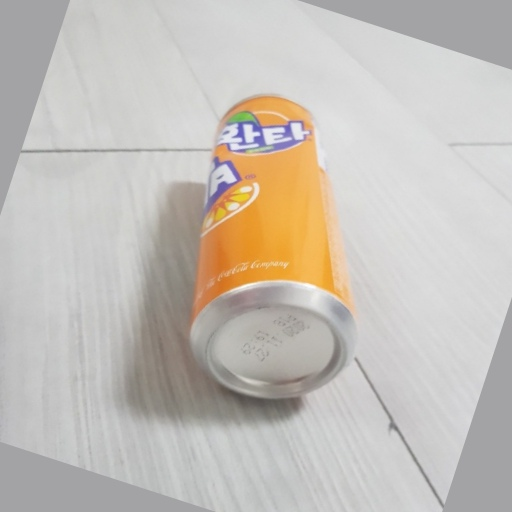Metal_0: (181, 92, 360, 398)
